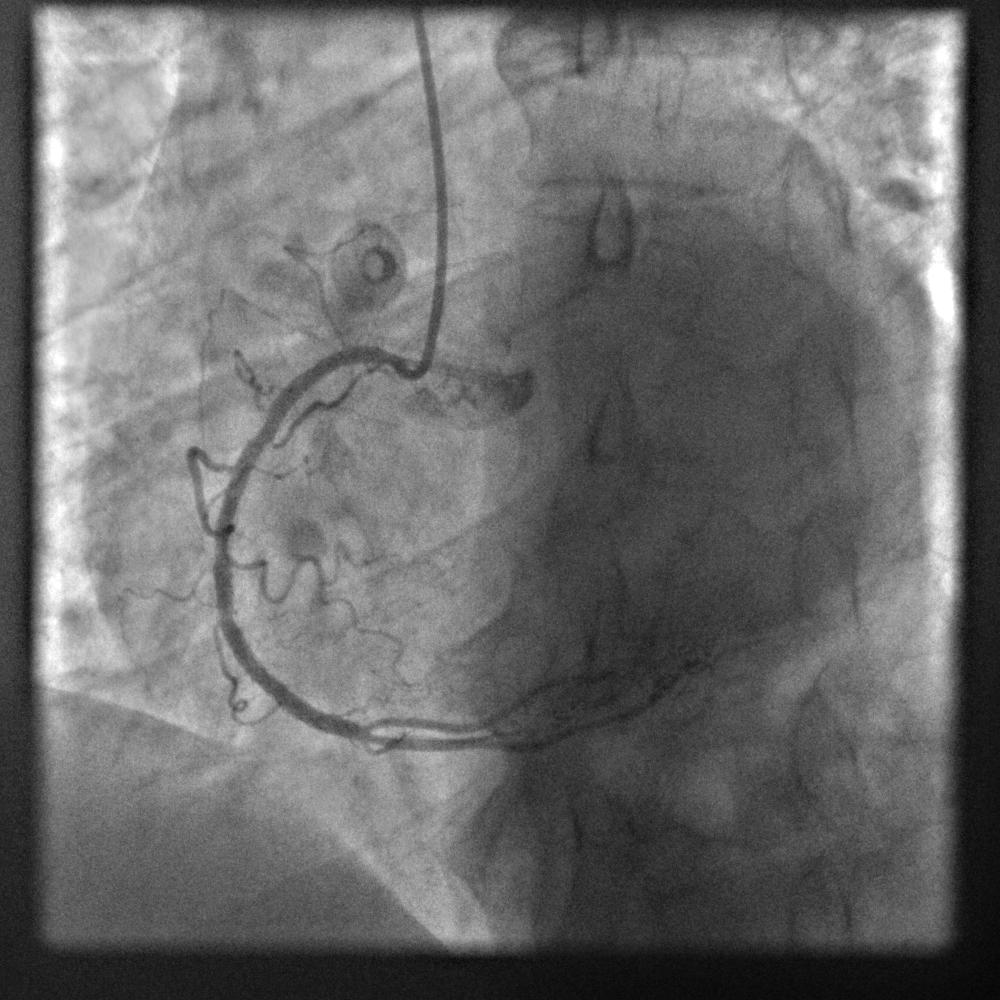Stenosis: (236, 403, 284, 455)
